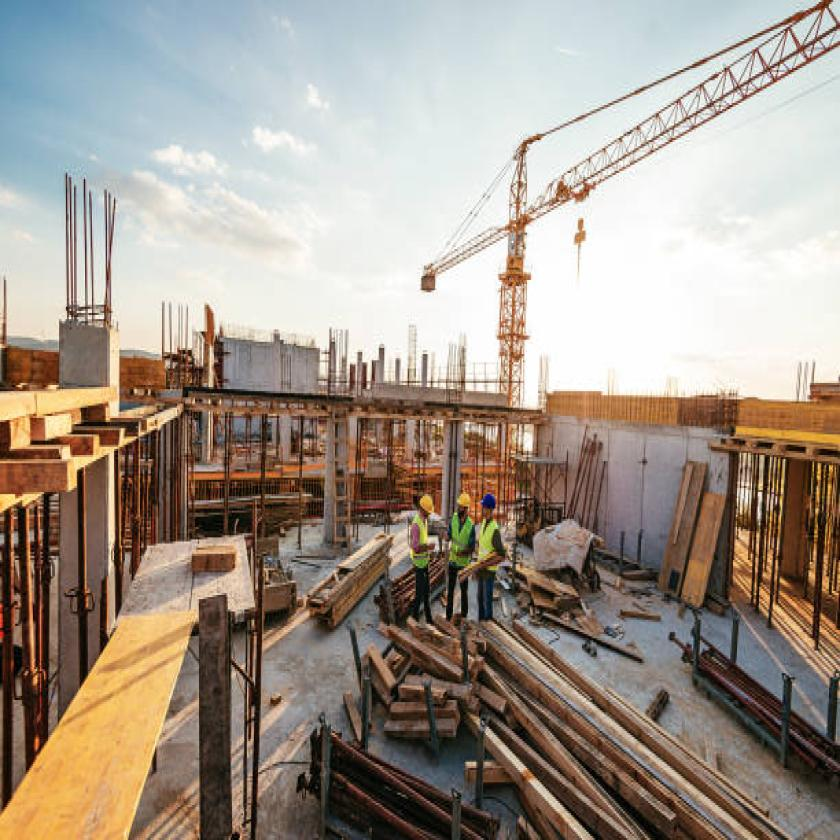Con_casco: (447, 481, 474, 530), (477, 487, 504, 528), (412, 485, 439, 524)
